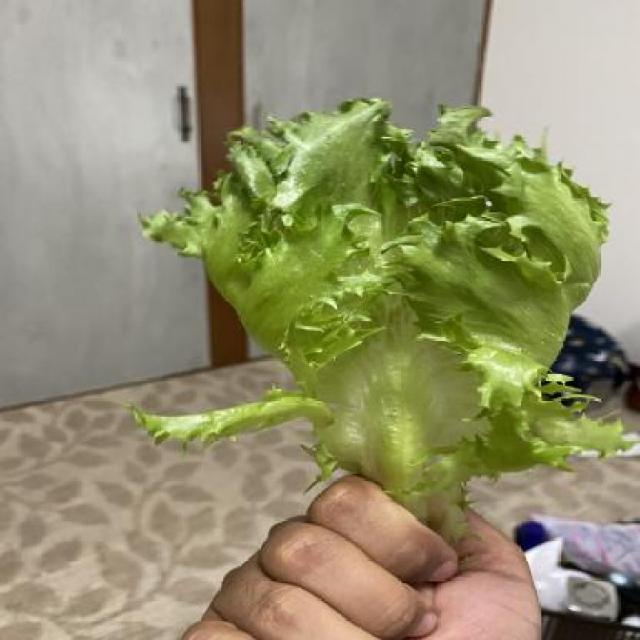lettuce: (127, 95, 640, 550)
